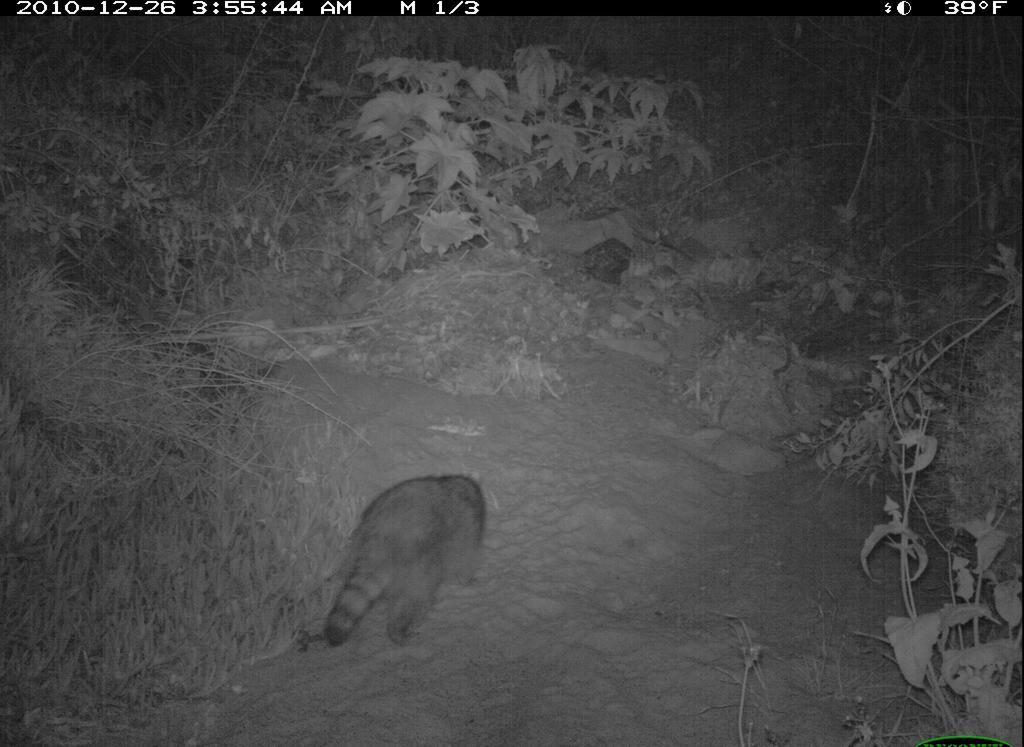raccoon: (295, 456, 514, 679)
